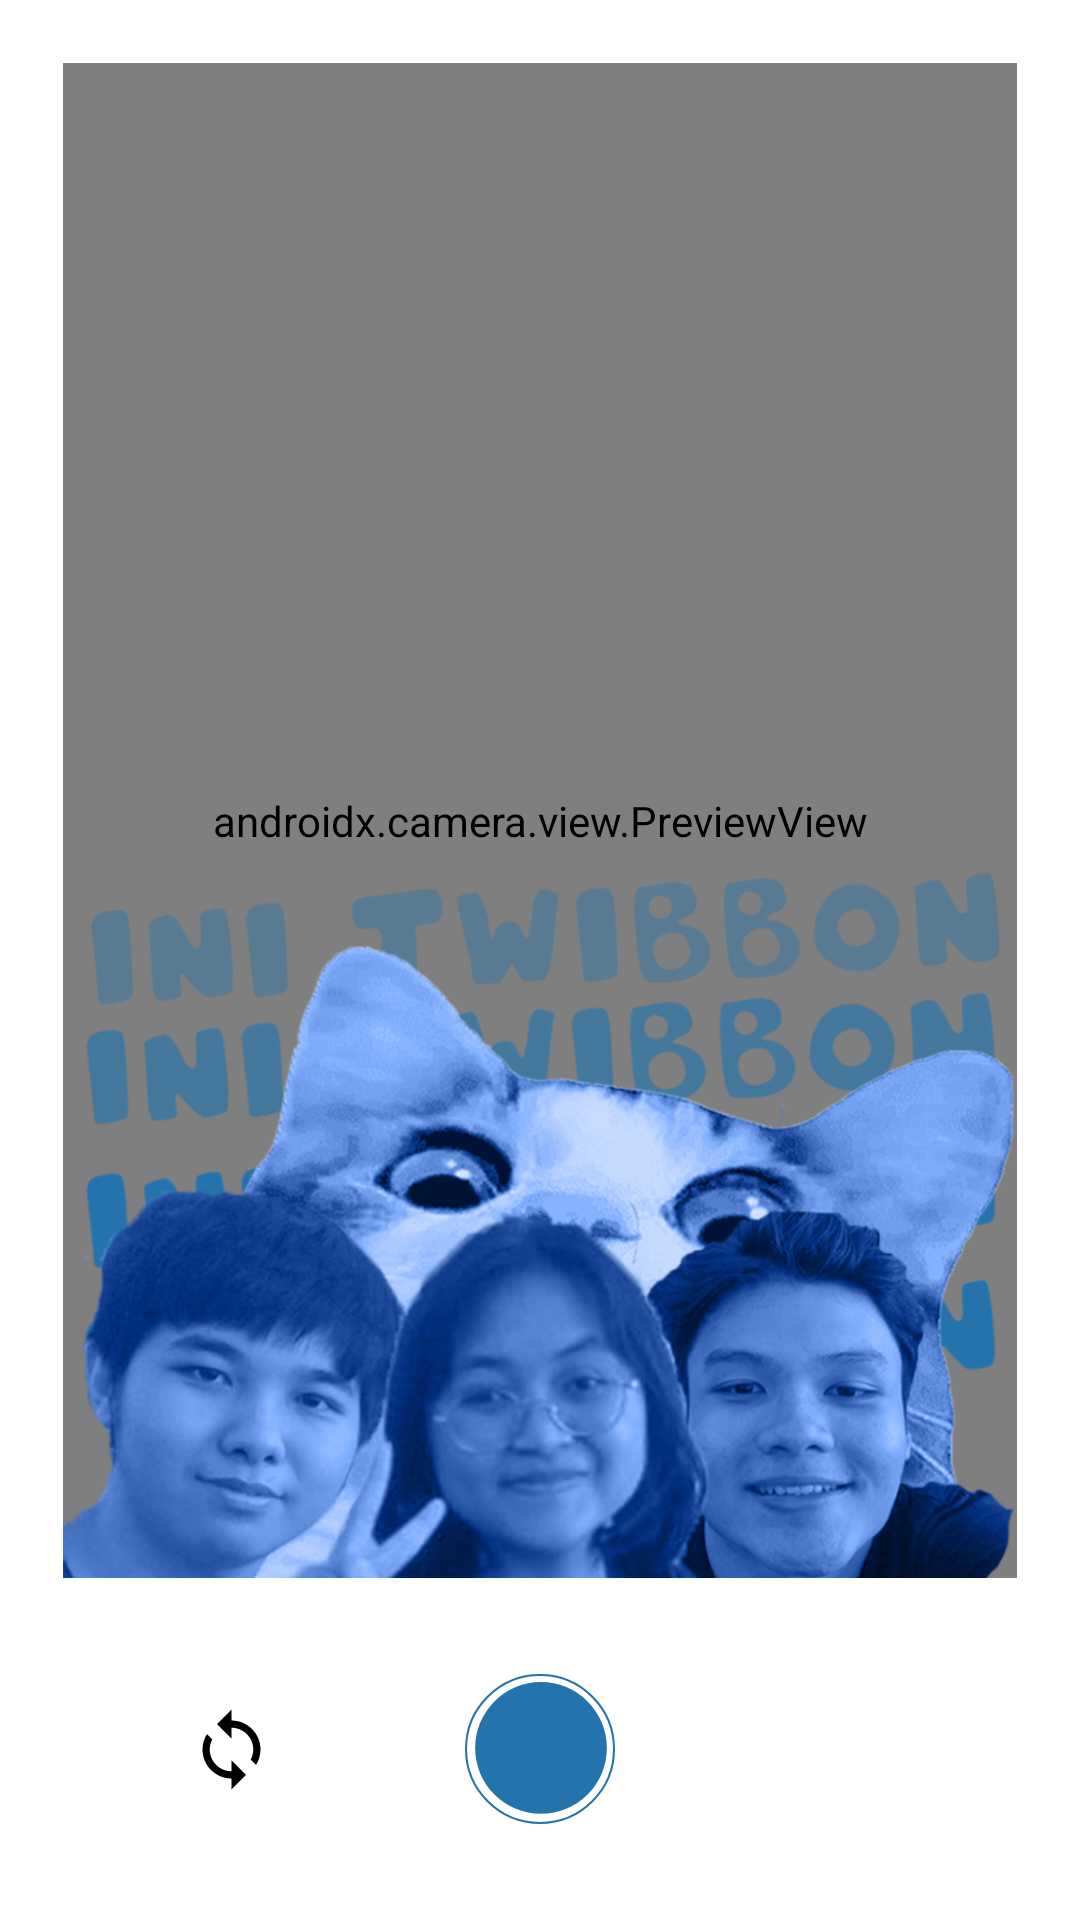

Icons on this 1080 × 1920 Android screen, each with the point to tap as (x=x, y=y):
flip image: (x=231, y=1749)
